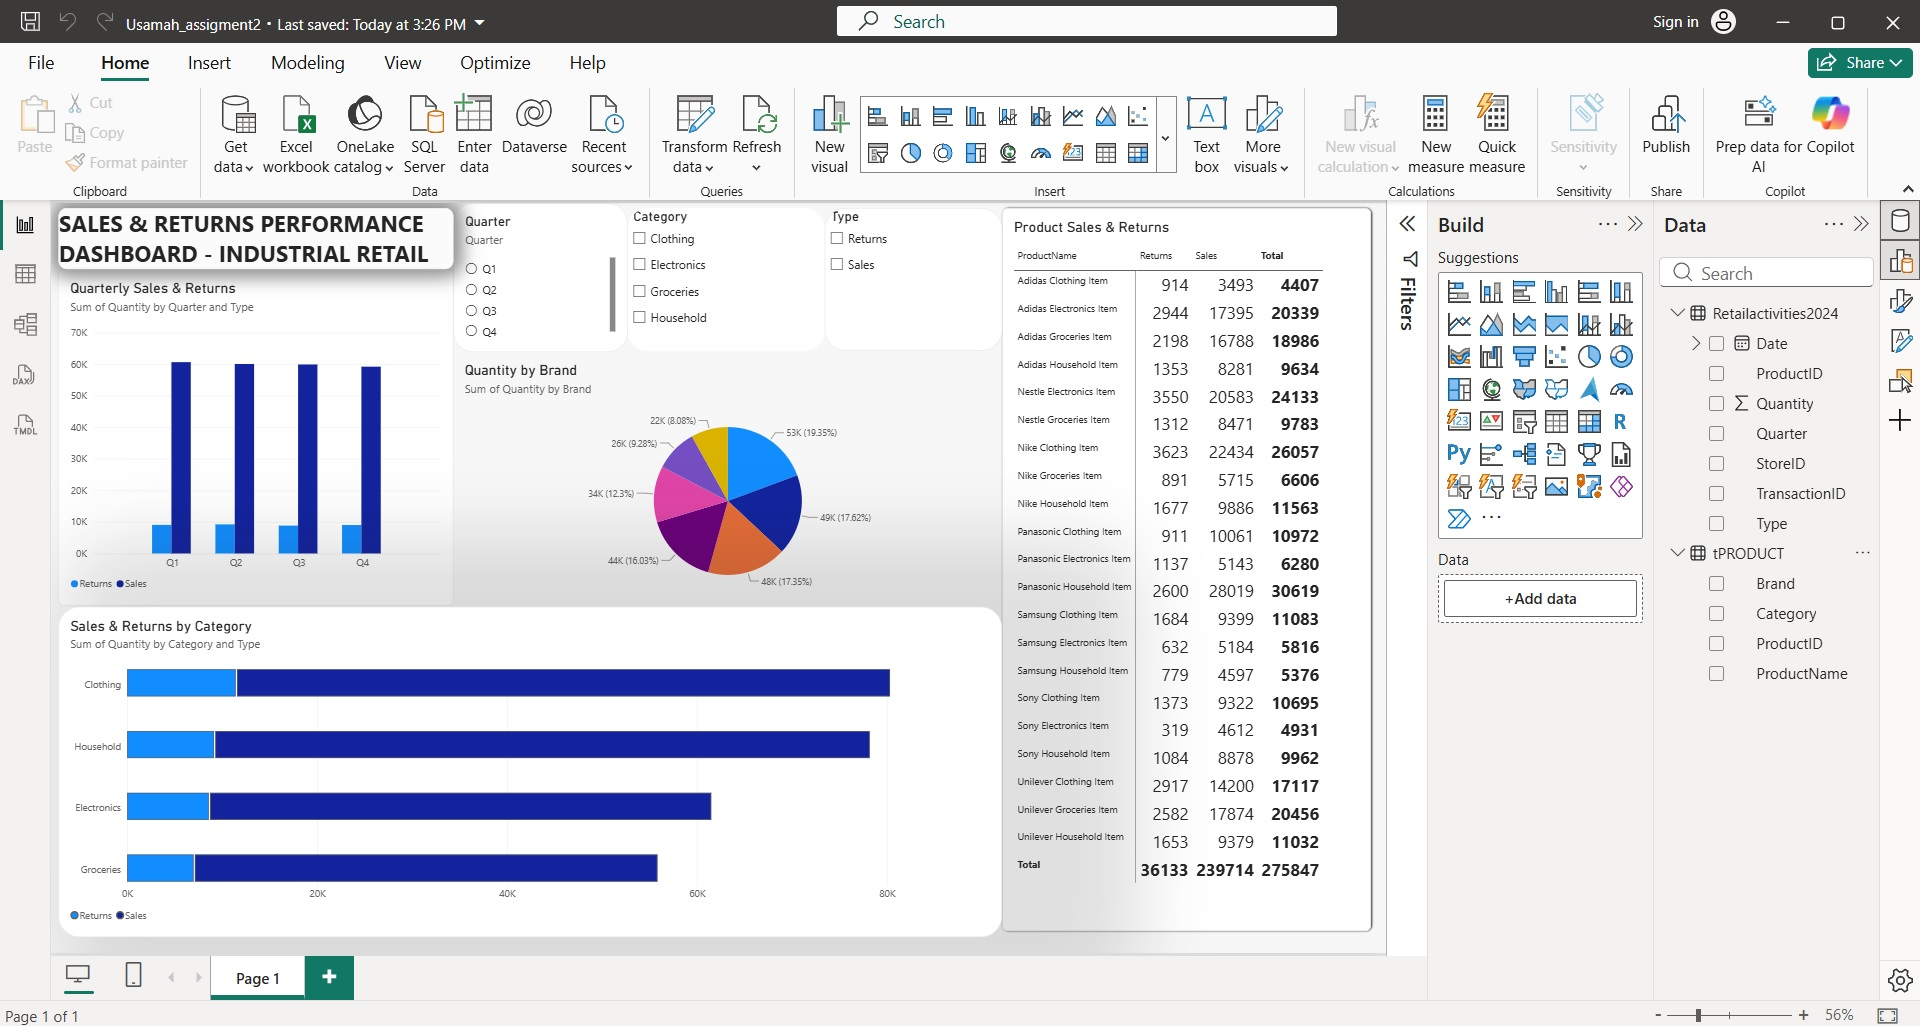

The dashboard page shown, as its layout file describes it:
{"tool":"powerbi","page":{"name":"Page 1","canvas":[1920,1080],"ordinal":0},"visuals":[{"type":"clusteredColumnChart","title":"Quarterly Sales & Returns","fields":{"Category":["Retailactivities2024.Quater"],"Series":["Retailactivities2024.Type"],"Y":["Sum(Retailactivities2024.Quantity)"]},"box":[10,96,568,484],"z":0},{"type":"pieChart","title":"Quantity by Brand","fields":{"Category":["tPRODUCT.Brand"],"Y":["Sum(Retailactivities2024.Quantity)"]},"box":[578.6,214.3,789.3,366.1],"z":1000},{"type":"pivotTable","title":"Product Sales & Returns","fields":{"Columns":["Retailactivities2024.Type"],"Rows":["tPRODUCT.ProductName"],"Values":["Sum(Retailactivities2024.Quantity)"]},"box":[1367.9,7.1,530,1040],"z":2000},{"type":"barChart","title":"Sales & Returns by Category","fields":{"Category":["tPRODUCT.Category"],"Series":["Retailactivities2024.Type"],"Y":["Sum(Retailactivities2024.Quantity)"]},"box":[10.7,580.4,1357.1,475],"z":3000},{"type":"slicer","fields":{"Values":["tPRODUCT.Category"]},"box":[828.6,7.1,283.9,205.4],"z":4000},{"type":"slicer","fields":{"Values":["Retailactivities2024.Type"]},"box":[1112.5,7.1,255.4,205.4],"z":5000},{"type":"listSlicer","title":"Quarter","fields":{"Values":["Retailactivities2024.Quater"]},"box":[578.6,0,250,214.3],"z":7000},{"type":"textbox","box":[10,8,568,88],"z":8000}]}

Visuals, with their boxes on the page's 1920x1080 design canvas (x1, y1, x2, y2). These are canvas units, not pixel positions in the 1922x1026 screenshot, which may show the page scaled, cropped or inside an application window:
"Quarterly Sales & Returns" clusteredColumnChart: rect(10, 96, 578, 580)
"Quantity by Brand" pieChart: rect(579, 214, 1368, 580)
"Product Sales & Returns" pivotTable: rect(1368, 7, 1898, 1047)
"Sales & Returns by Category" barChart: rect(11, 580, 1368, 1055)
slicer - tPRODUCT.Category: rect(829, 7, 1112, 212)
slicer - Retailactivities2024.Type: rect(1112, 7, 1368, 212)
"Quarter" listSlicer: rect(579, 0, 829, 214)
textbox: rect(10, 8, 578, 96)
